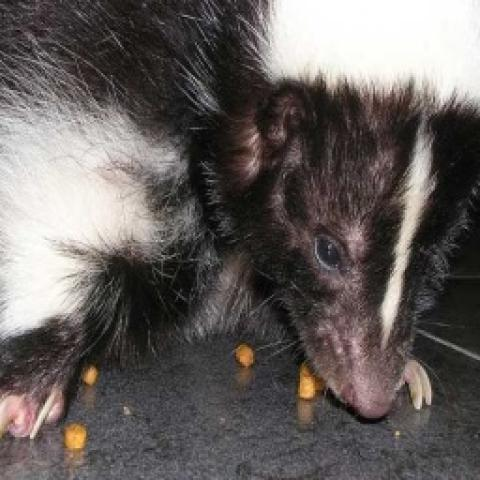small_animal: (0, 0, 478, 441)
